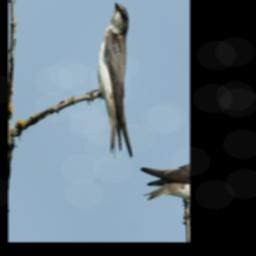Swallow: (66, 0, 176, 173)
